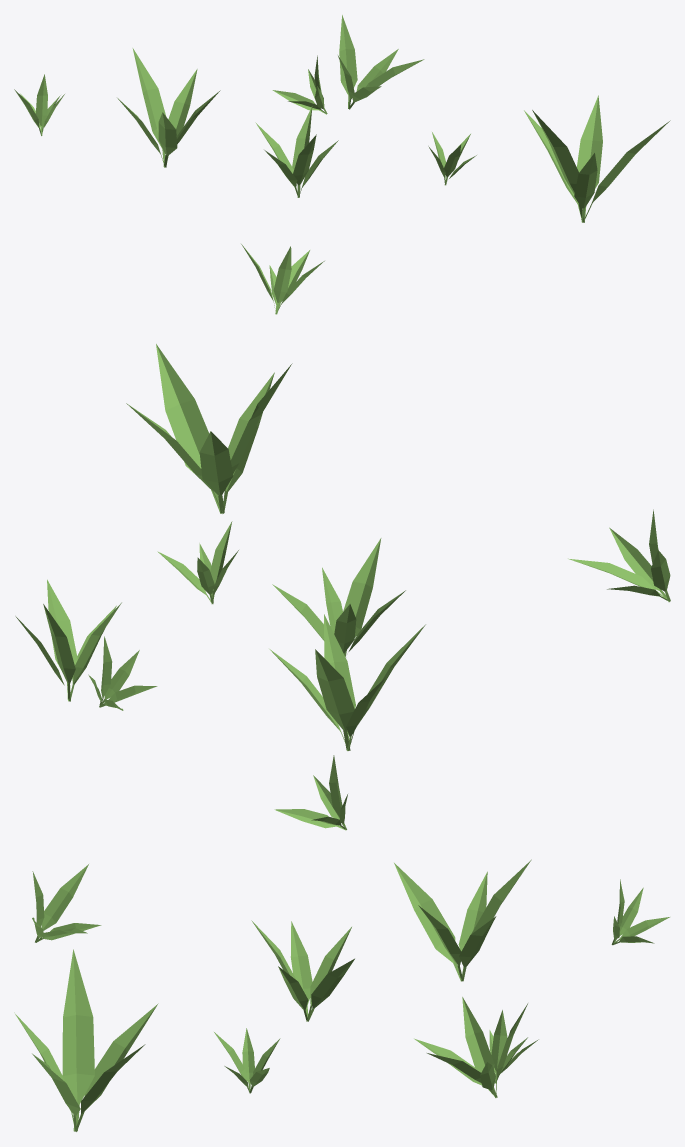
File: Grass02.fbx
3 renders of one model, top to bottom at view 1: azimuth 30°, elevation 25°; view 2: azimuth 150°, elevation 25°; view 3: azimuth 270°, elevation 25°, orthographic. The views are drawn at different scales.
Parts seen in each view (by area): view 1: Circle.554; view 2: Circle.554; view 3: Circle.554.
Part boxes in pixels (bbox=[...]): Circle.554: bbox=[14, 15, 670, 314]; Circle.554: bbox=[15, 344, 670, 830]; Circle.554: bbox=[14, 859, 669, 1131].
Bounding box in the file's own units: 74.78 × 22.43 × 87.23.
